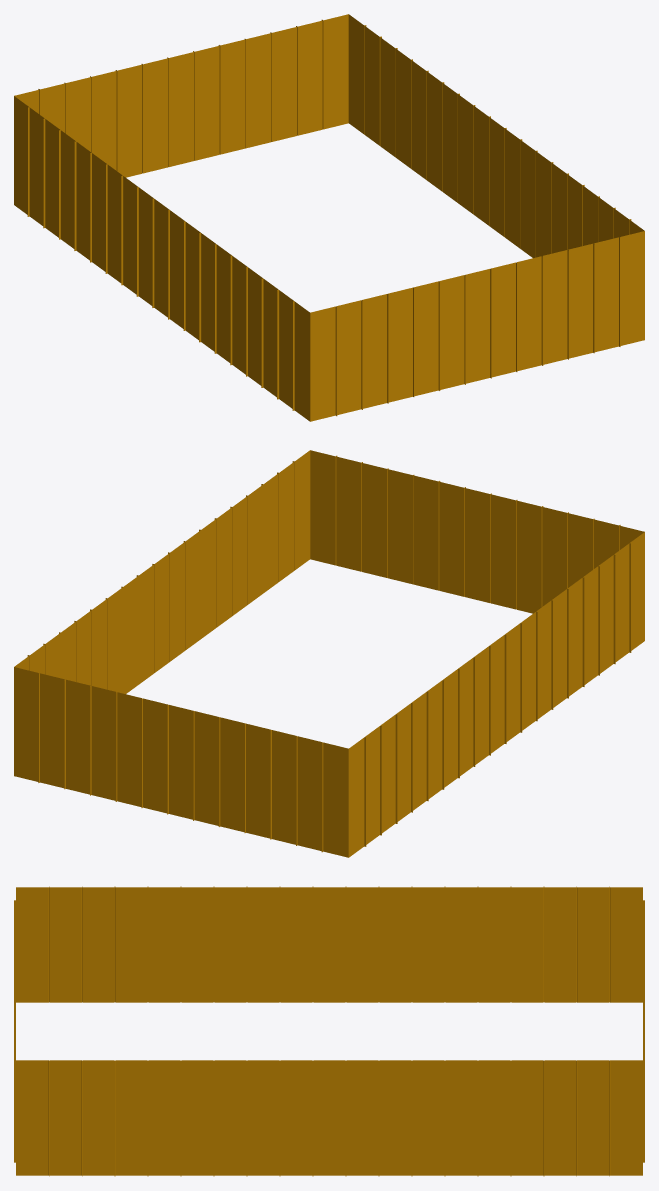
Rendered from wall.FBX.
3 views of the same model, one above another, from view 1: azimuth 30°, elevation 25°; view 2: azimuth 150°, elevation 25°; view 3: azimuth 270°, elevation 25° (orthographic). The views are drawn at different scales.
Parts seen in each view (by area): view 1: Box30675; view 2: Box30675; view 3: Box30675.
Boxes of the visible parts, left/top/right/bottom form: Box30675: left=14, top=14, right=644, bottom=421; Box30675: left=14, top=450, right=644, bottom=857; Box30675: left=14, top=886, right=644, bottom=1176.
Size of the model in its own units: 3757 by 1158 by 5734.
